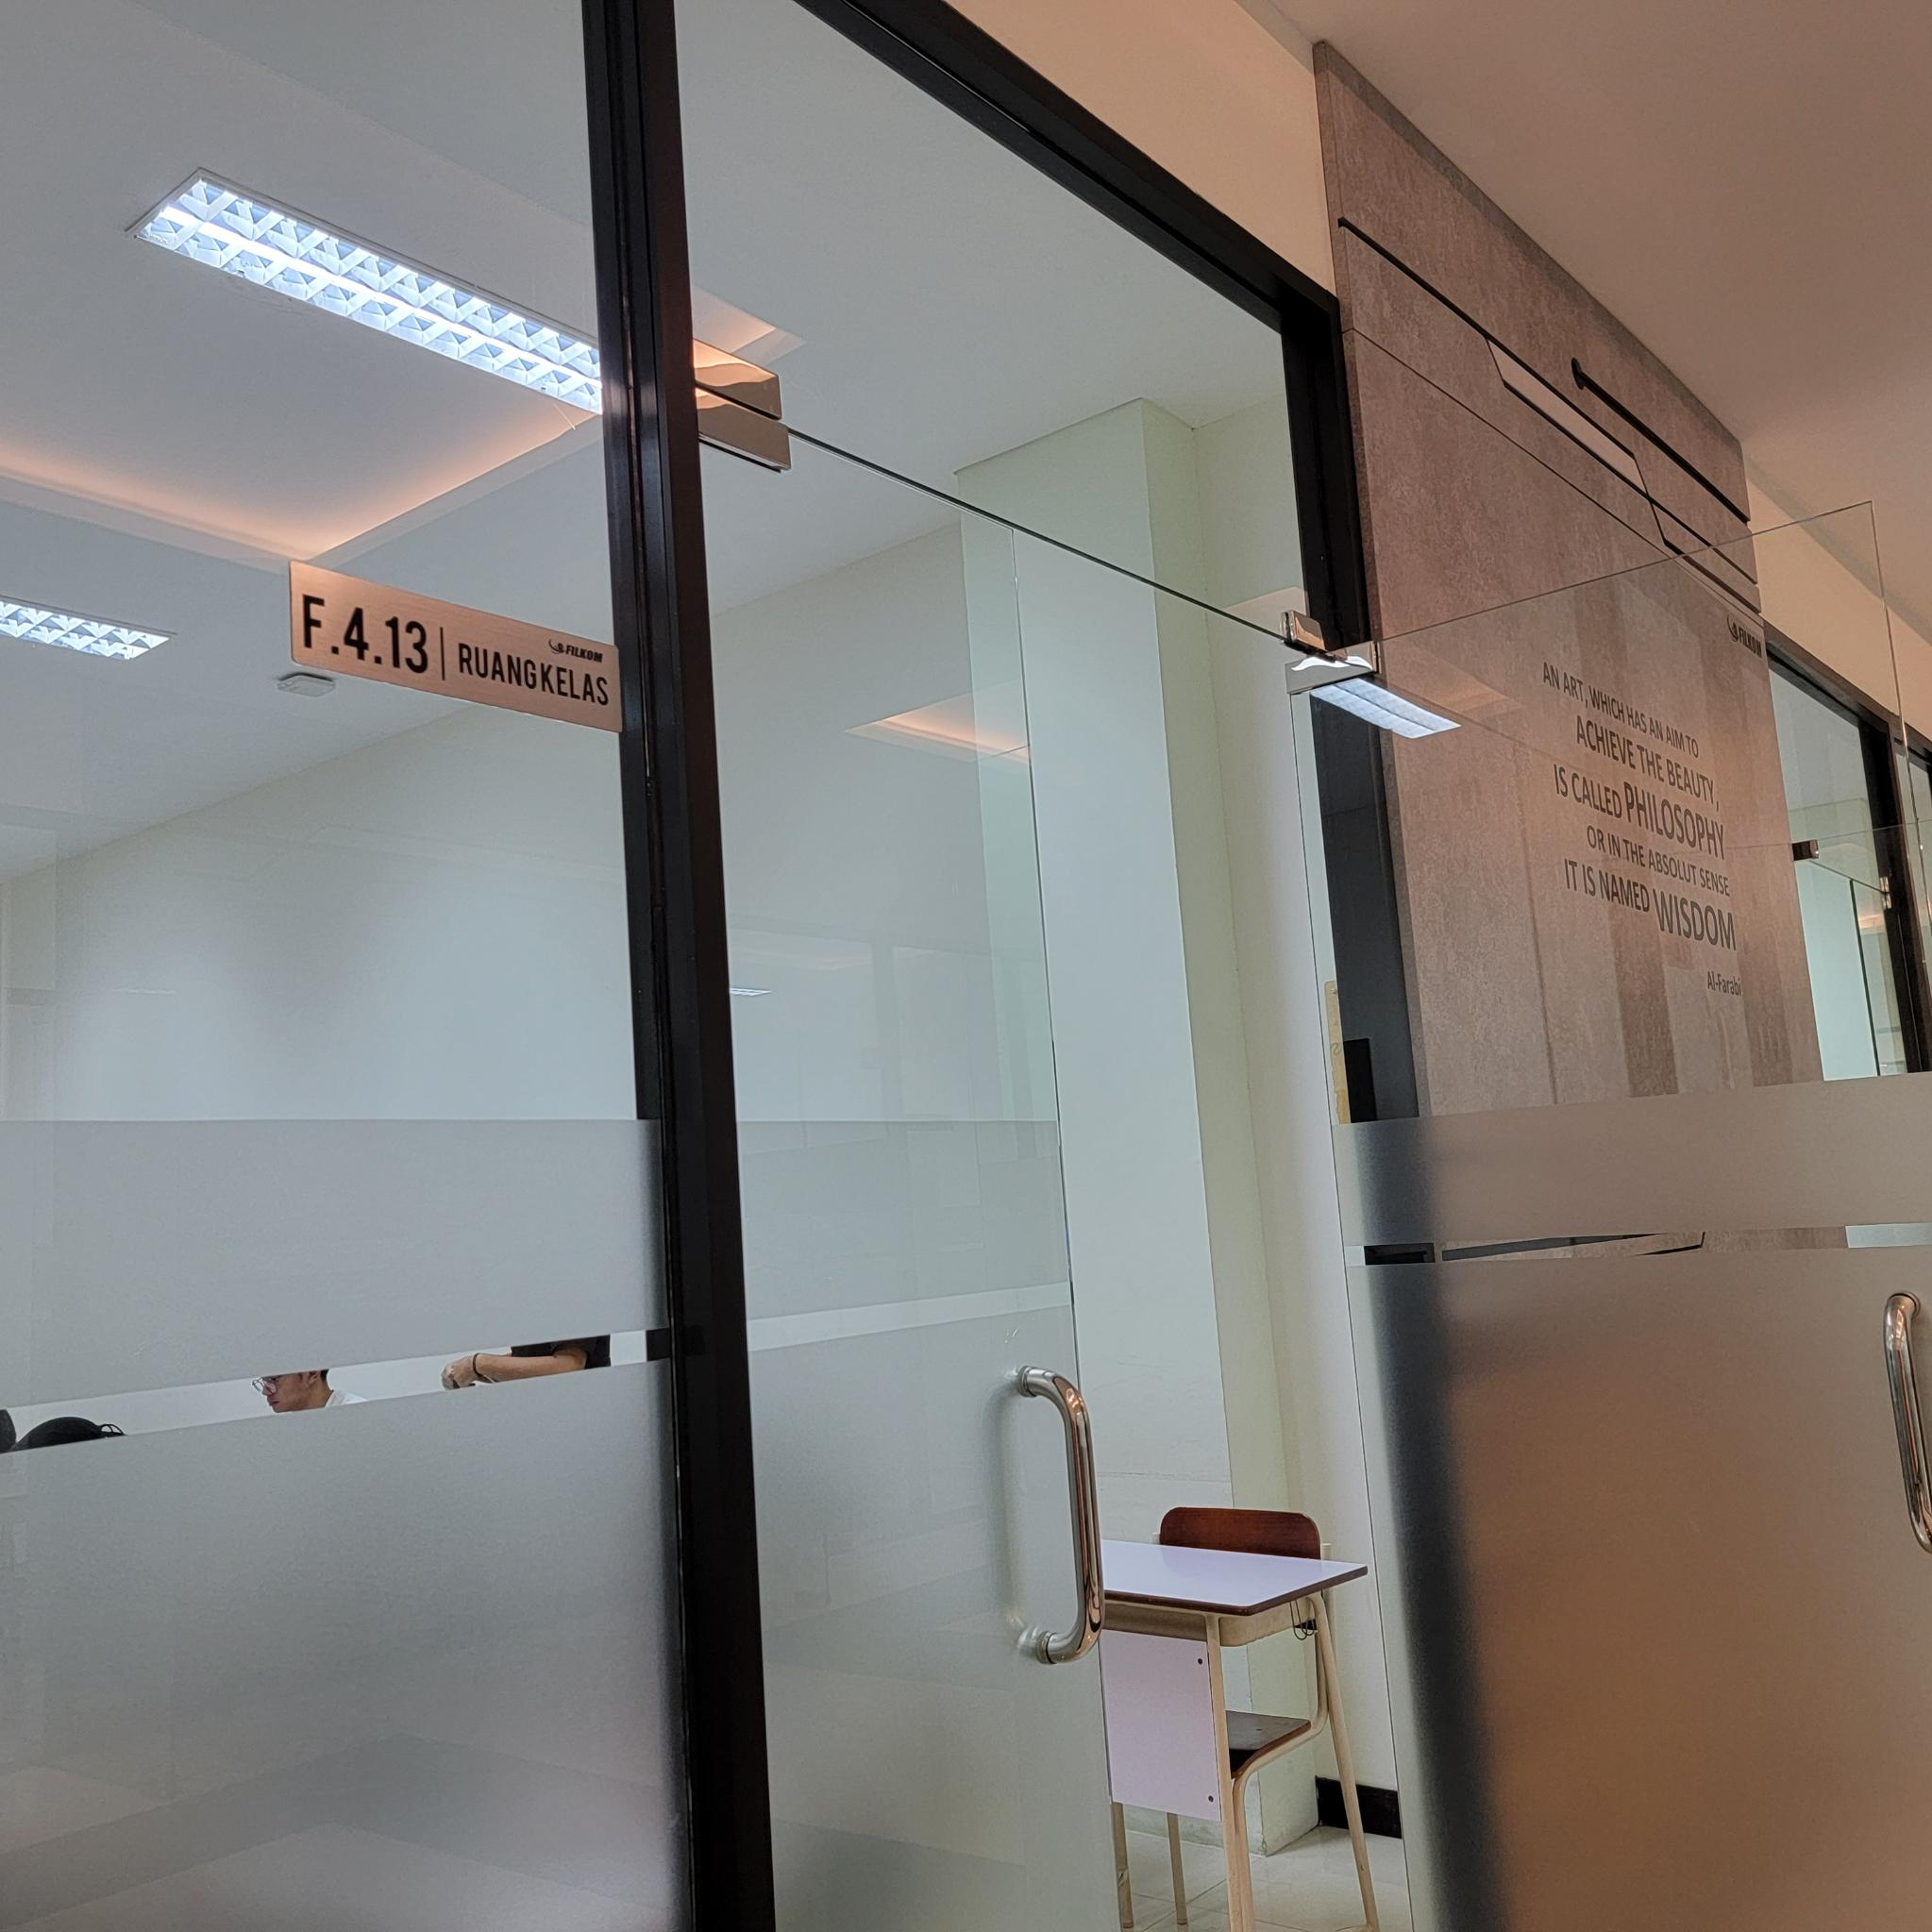plate: (290, 559, 623, 736)
